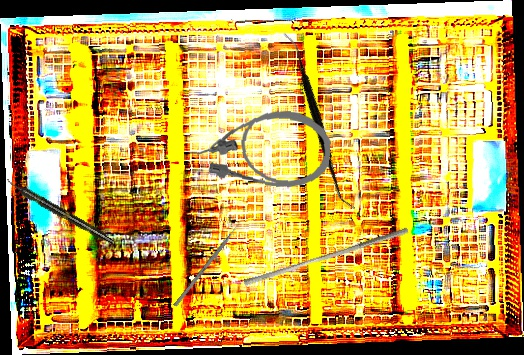Cannula: (187, 103, 334, 191)
Handpiece: (4, 176, 116, 247)
Pusher: (242, 220, 410, 293), (173, 214, 247, 308)
Spatula Surgical: (225, 31, 413, 211)
